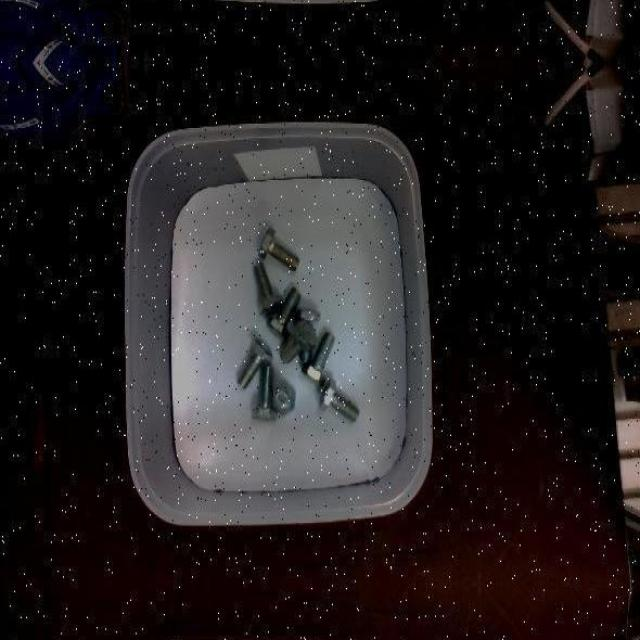screw: (238, 335, 274, 389), (267, 285, 301, 340), (303, 330, 335, 386), (319, 379, 360, 422), (260, 227, 300, 270), (281, 318, 318, 363), (254, 262, 283, 316), (252, 364, 278, 421), (272, 382, 295, 416)
